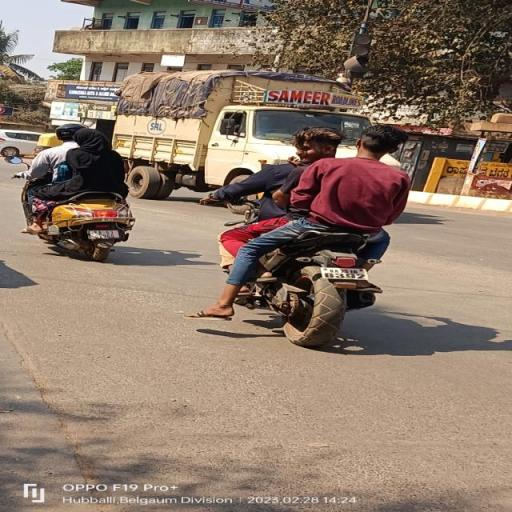bike: (197, 119, 423, 348)
numberplate: (318, 266, 370, 282)
withouthelmet: (296, 127, 339, 157), (363, 125, 404, 153)
